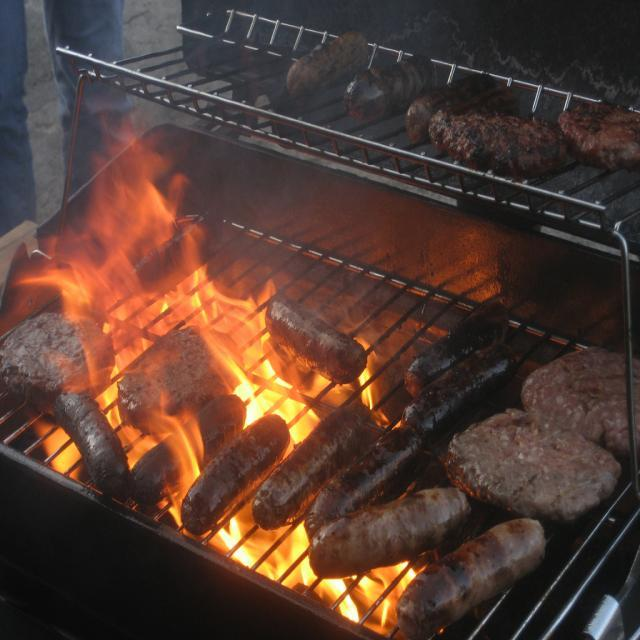Fire: (236, 356, 292, 416), (205, 295, 248, 348), (275, 530, 309, 578)
